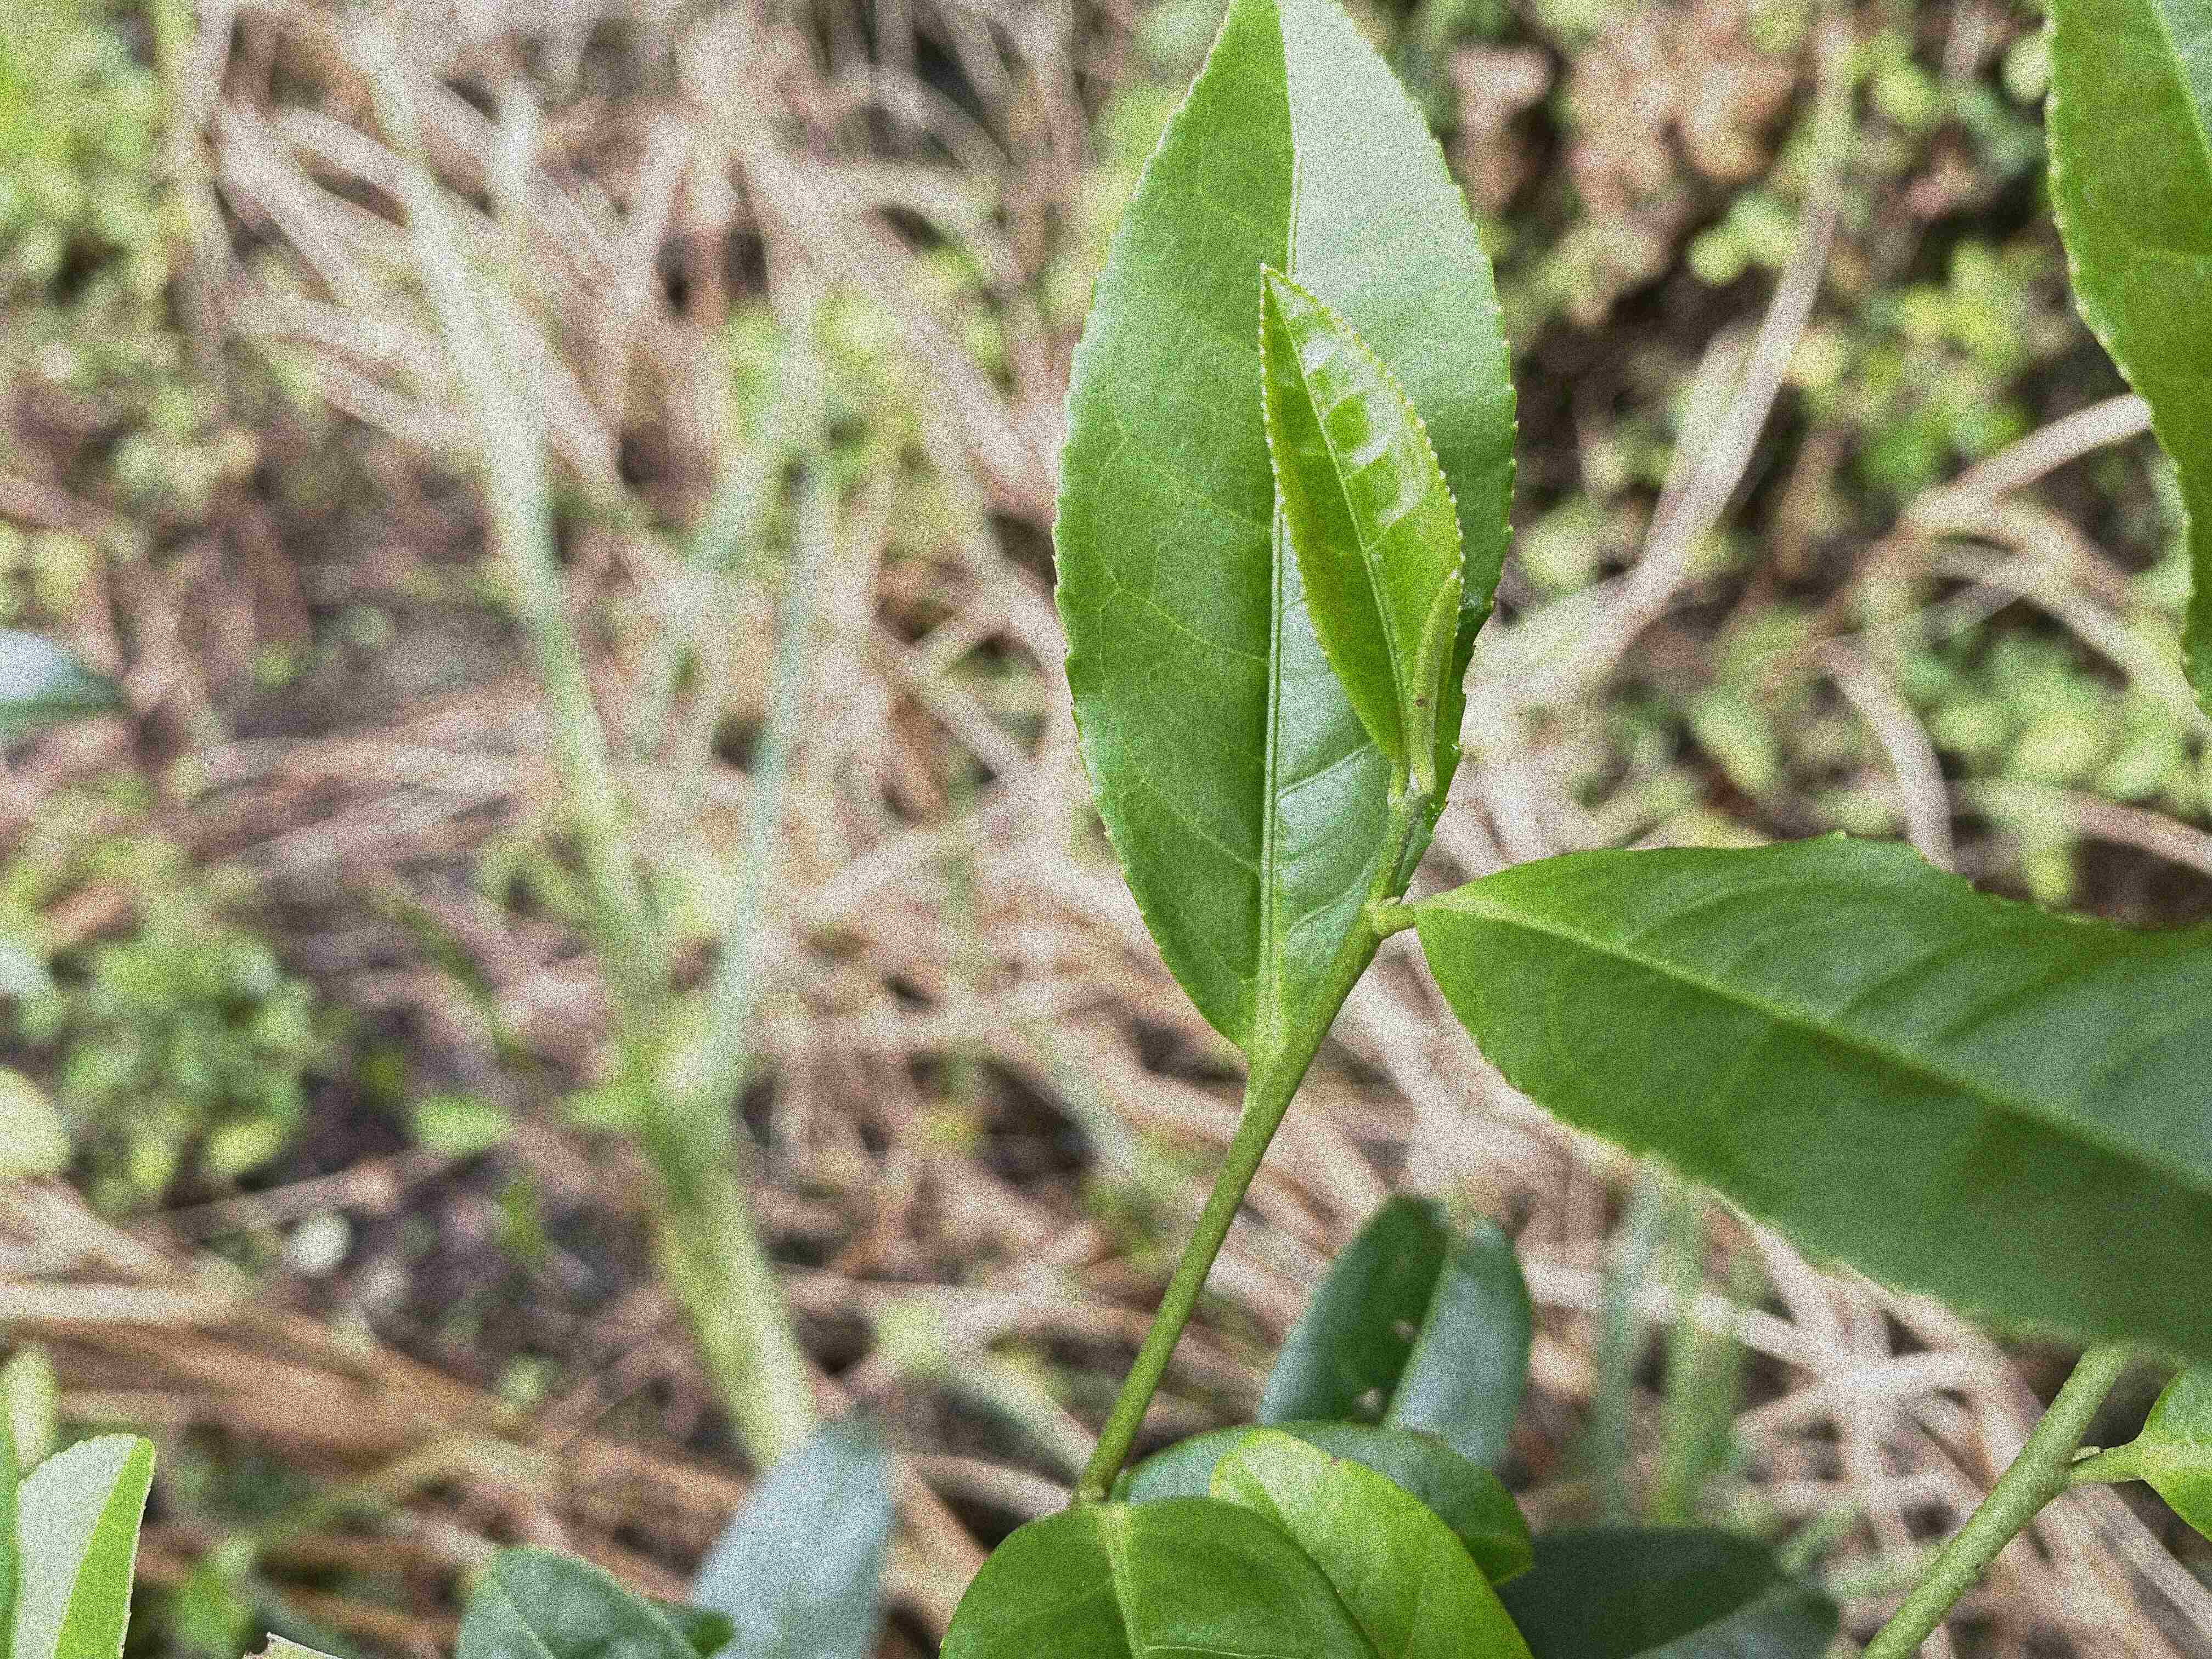healthy: (1052, 2, 1517, 1054), (1414, 823, 2210, 1375), (1259, 265, 1468, 770)
